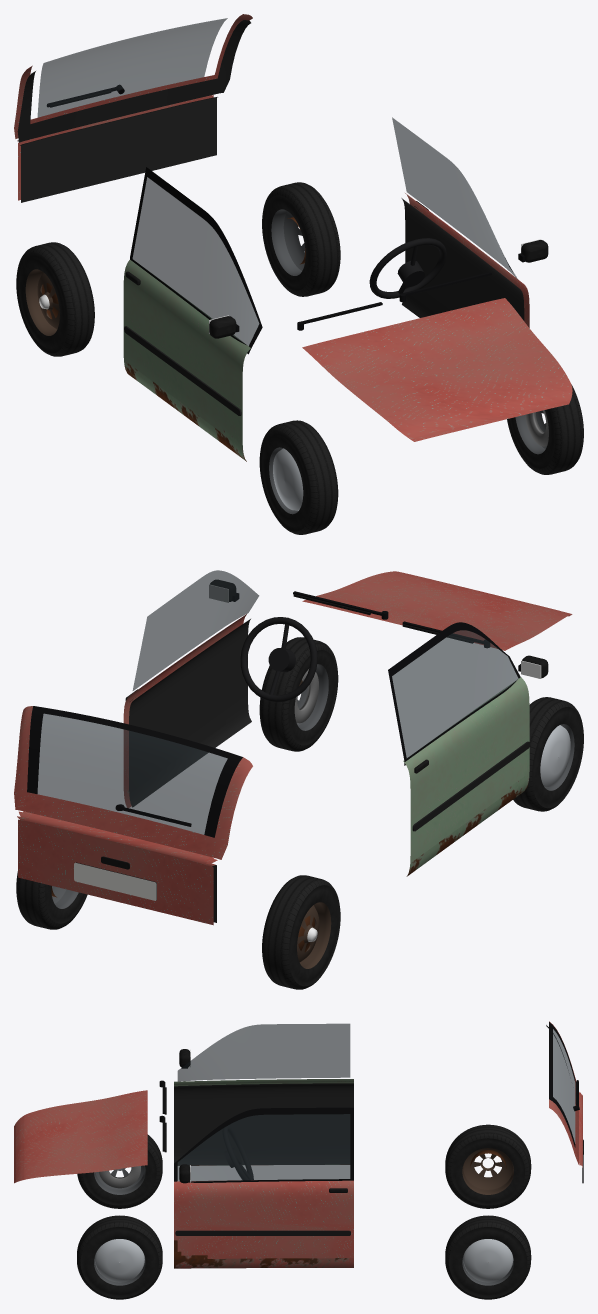
The model's file is car_shitbox.glb.
3 renders of one model, top to bottom at view 1: azimuth 30°, elevation 25°; view 2: azimuth 150°, elevation 25°; view 3: azimuth 270°, elevation 25°, orthographic. The views are drawn at different scales.
Parts seen in each view (by area): view 1: hatch, door_R, hood, door_L, wheel_FR, wheel_RL, wheel_RR, wheel_FL, steering_wheel; view 2: hatch, door_R, door_L, hood, wheel_RR, wheel_FL, wheel_FR, wheel_RL, steering_wheel, wiper_L; view 3: door_L, door_R, hood, wheel_FL, wheel_RL, wheel_RR, wheel_FR, hatch, steering_wheel.
Boxes of the visible parts, x1,y1,x2,y2 form: hatch: [14, 14, 252, 202]; door_R: [123, 167, 262, 461]; hood: [302, 298, 572, 441]; door_L: [392, 117, 548, 327]; wheel_FR: [259, 420, 338, 534]; wheel_RL: [262, 182, 340, 296]; wheel_RR: [16, 242, 94, 356]; wheel_FL: [507, 384, 583, 474]; steering_wheel: [369, 238, 446, 298]; hatch: [14, 706, 252, 925]; door_R: [388, 622, 548, 876]; door_L: [123, 570, 258, 807]; hood: [302, 571, 572, 650]; wheel_RR: [262, 875, 340, 989]; wheel_FL: [259, 637, 338, 751]; wheel_FR: [513, 697, 583, 811]; wheel_RL: [16, 871, 87, 929]; steering_wheel: [240, 617, 317, 702]; wiper_L: [293, 591, 388, 619]; door_L: [174, 1107, 353, 1268]; door_R: [174, 1023, 353, 1165]; hood: [14, 1090, 147, 1183]; wheel_FL: [77, 1215, 162, 1299]; wheel_RL: [445, 1215, 531, 1299]; wheel_RR: [445, 1124, 531, 1208]; wheel_FR: [77, 1134, 162, 1208]; hatch: [546, 1021, 583, 1183]; steering_wheel: [222, 1126, 253, 1179].
Size of what is drawn, in the model's own units: 1.87 by 1.37 by 3.64.
Materials: 27 (10 with a texture image).
